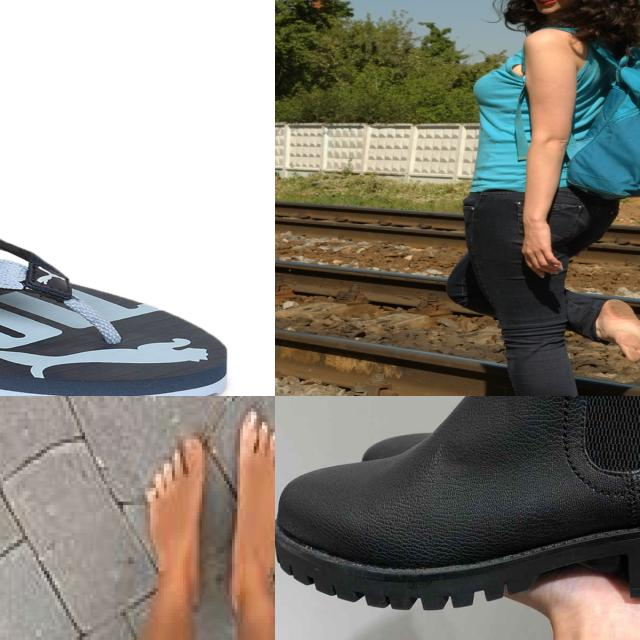Barefoots: (229, 406, 275, 613), (602, 299, 640, 362)
Sandals: (275, 396, 640, 622), (0, 202, 229, 396)
